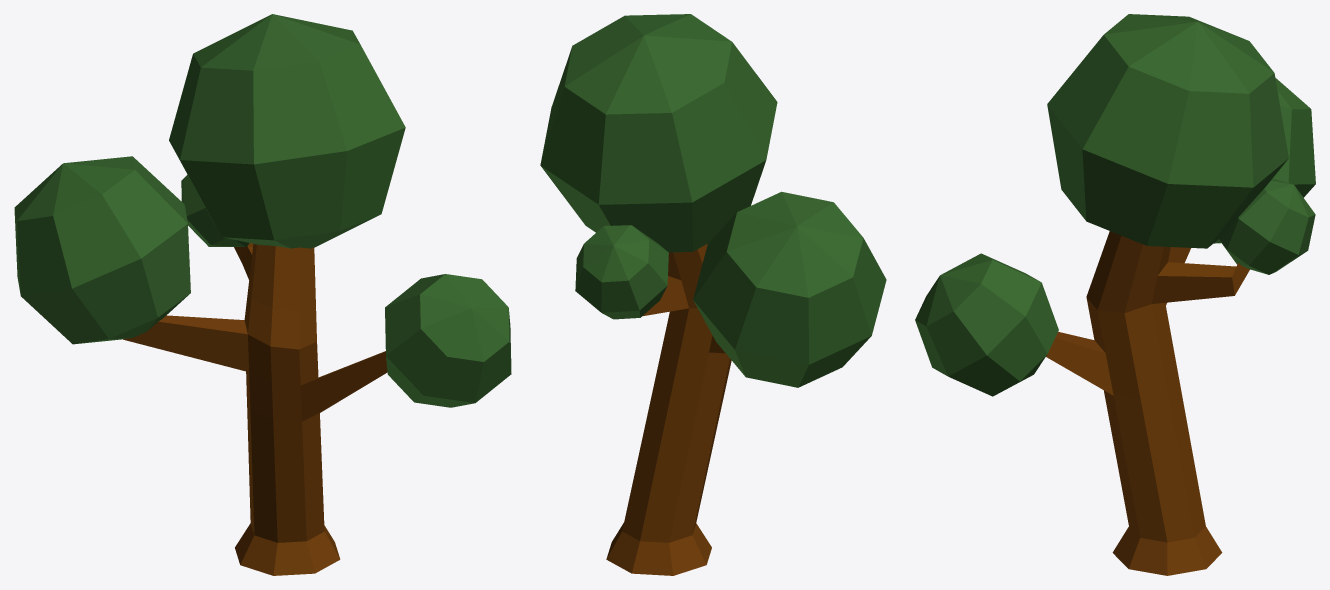
File: Tree1.fbx
The picture shows the model from 3 angles, left to right: view 1: azimuth 30°, elevation 25°; view 2: azimuth 150°, elevation 25°; view 3: azimuth 270°, elevation 25°; orthographic projection.
Visible parts, largest first — view 1: Tree1; view 2: Tree1; view 3: Tree1.
Part boxes in pixels (box(x1,y1,x2,y2)): Tree1: box(14, 14, 511, 575); Tree1: box(540, 14, 886, 575); Tree1: box(915, 14, 1315, 575).
Bounding box in the file's own units: 562 × 761 × 521.
Materials: 2 (2 with a texture image).
